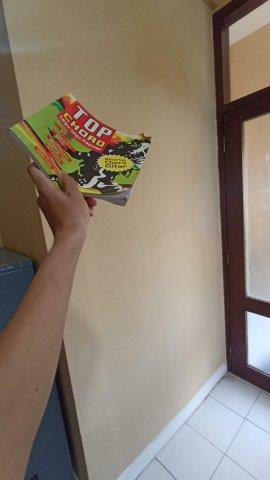kertas: (10, 92, 152, 217)
